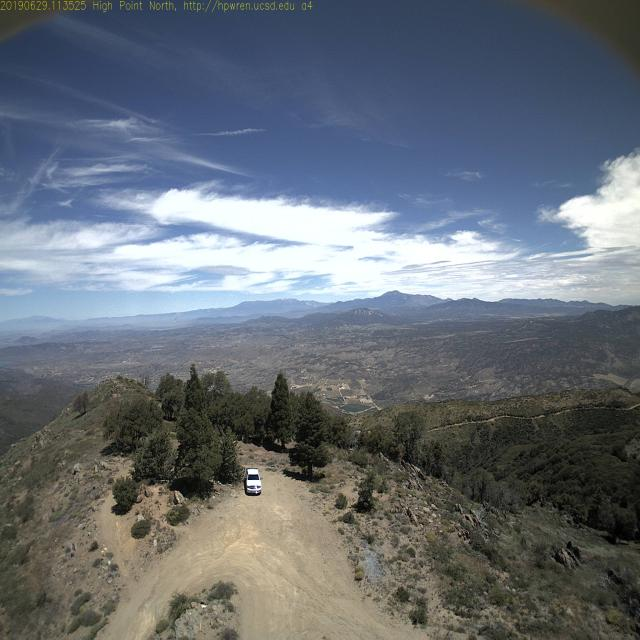smoke: (168, 305, 194, 326)
